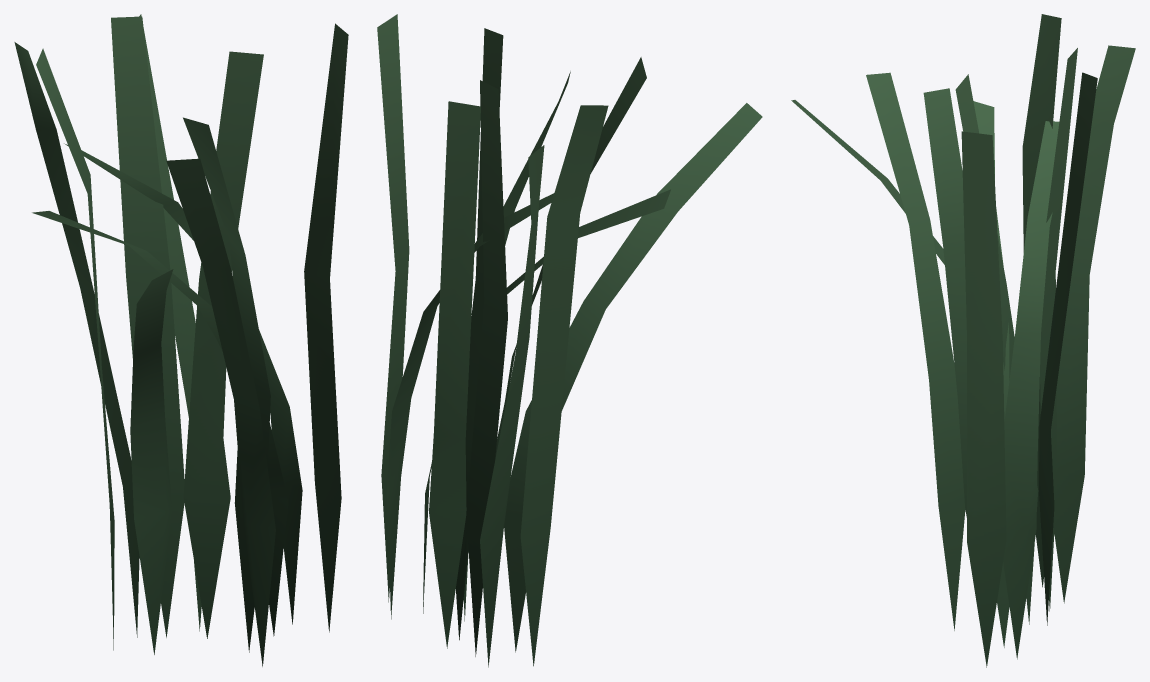
File: trees-grasses-tall-grass_v2.glb
The picture shows the model from 3 angles, left to right: view 1: azimuth 30°, elevation 25°; view 2: azimuth 150°, elevation 25°; view 3: azimuth 270°, elevation 25°; orthographic projection. The views are drawn at different scales.
Visible parts, largest first — view 1: Tall Grass_v2; view 2: Tall Grass_v2; view 3: Tall Grass_v2.
Part boxes in pixels (left/top/right/bottom): Tall Grass_v2: left=14, top=14, right=348, bottom=666; Tall Grass_v2: left=377, top=14, right=762, bottom=667; Tall Grass_v2: left=791, top=14, right=1135, bottom=667.
Bounding box in the file's own units: 0.2558 × 0.5 × 0.2847.
